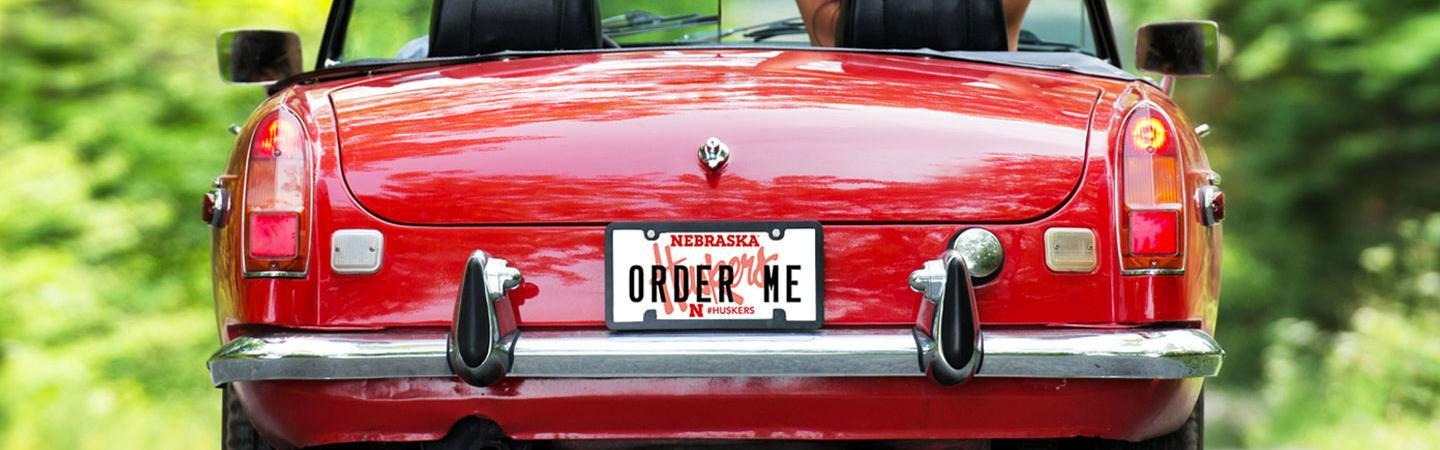license plate: (607, 229, 819, 324)
